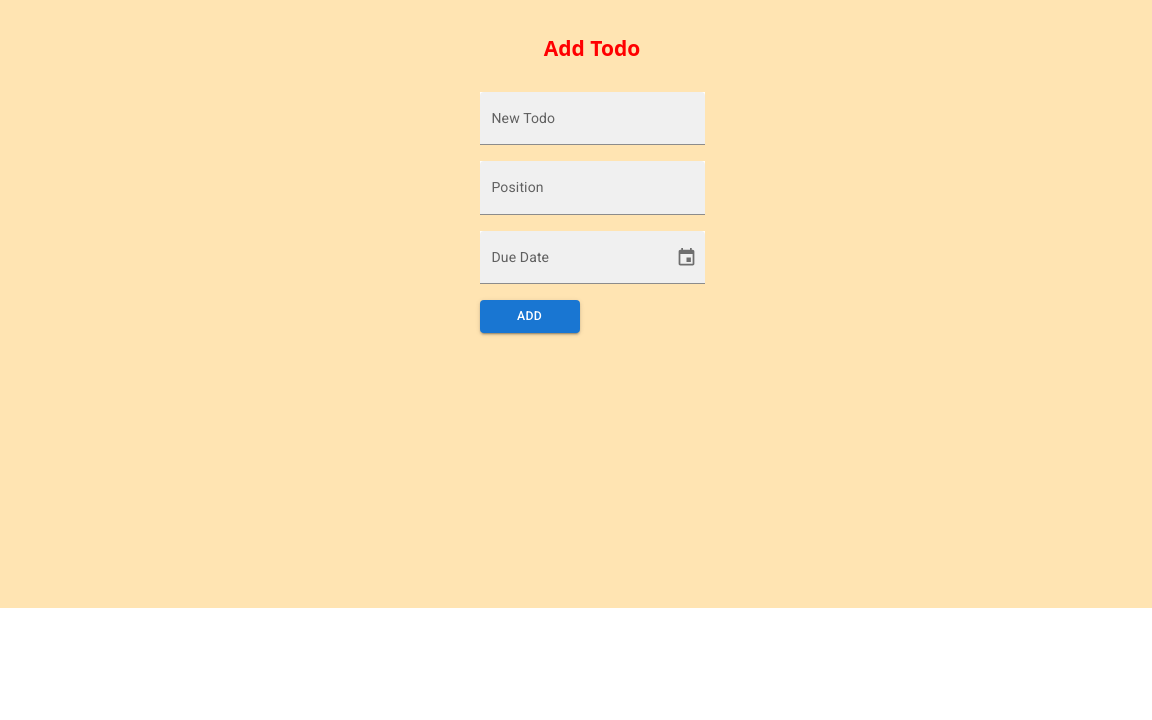
Scenario: AddTodo Component › shows error for invalid due date
In the field labelled "New Todo": (592, 119) [480,92,704,145], type "Test todo"
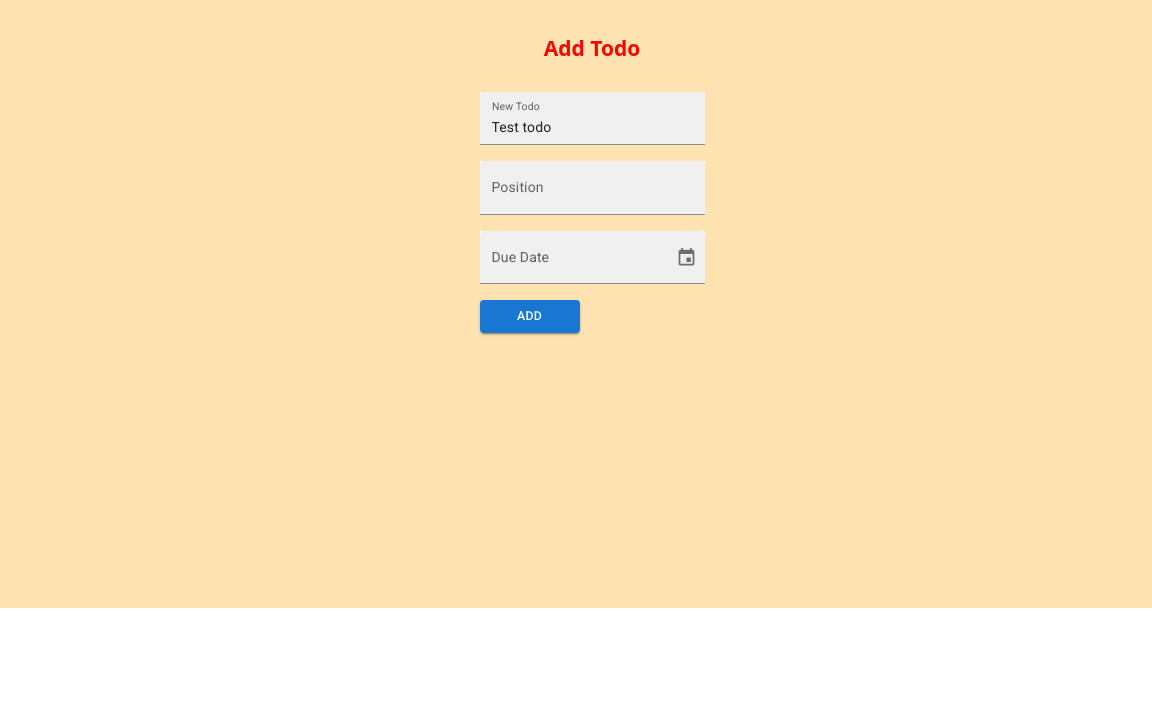
In the field labelled "Position": (592, 188) [480,162,704,215], type "Test position"
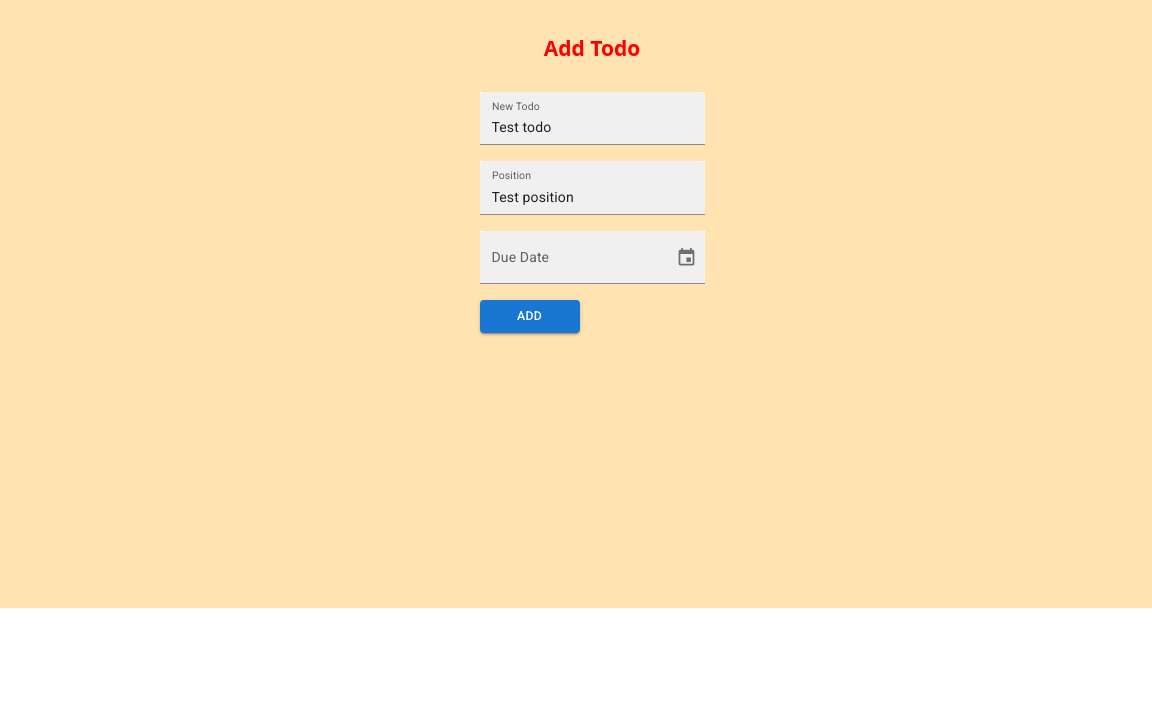
Try to submit with no date (should show required error)
Click the button "Add": (530, 316) [480,300,580,333]
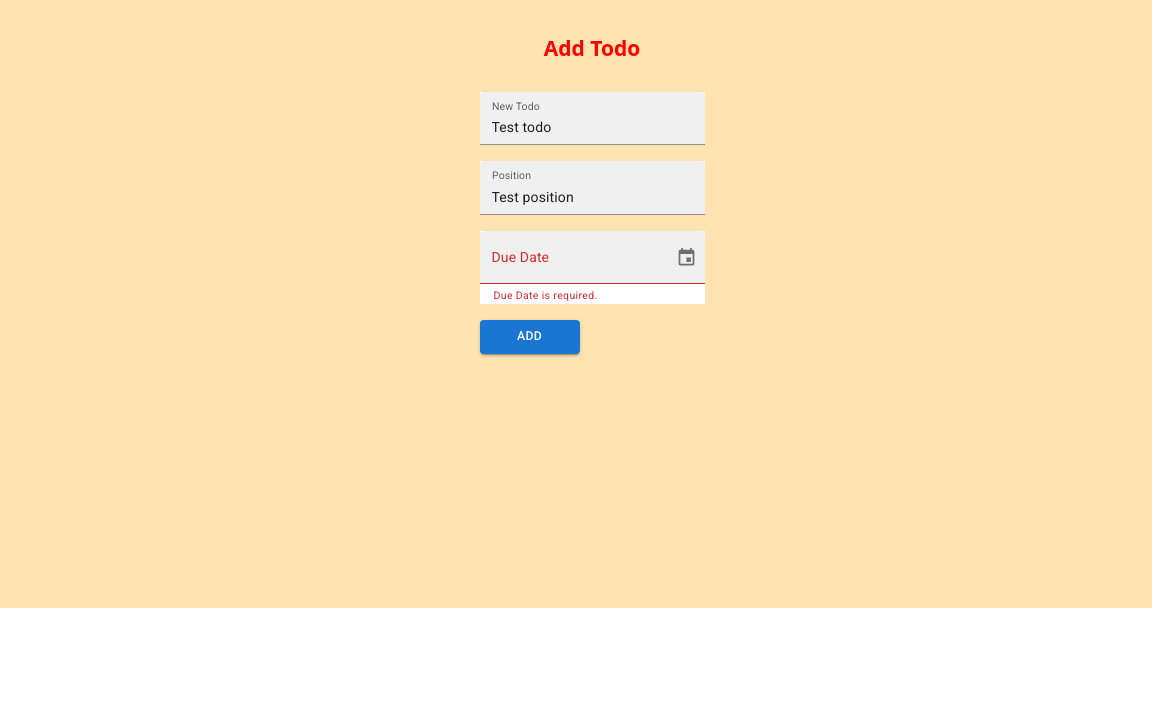
Expected: the text "Due Date is required." is shown, [494,289,598,302]
